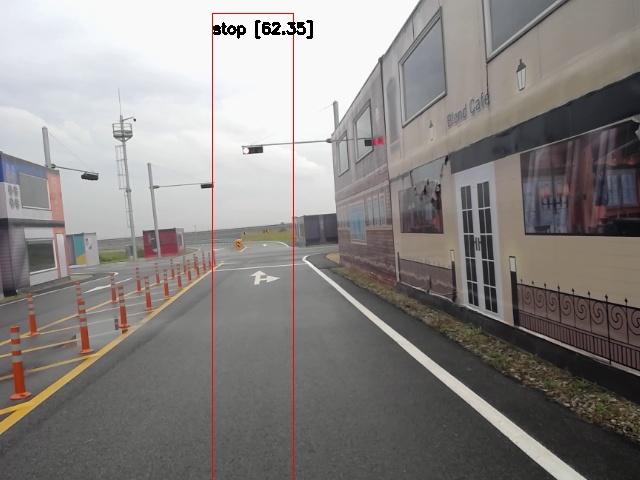red_3: (242, 146, 264, 155)
